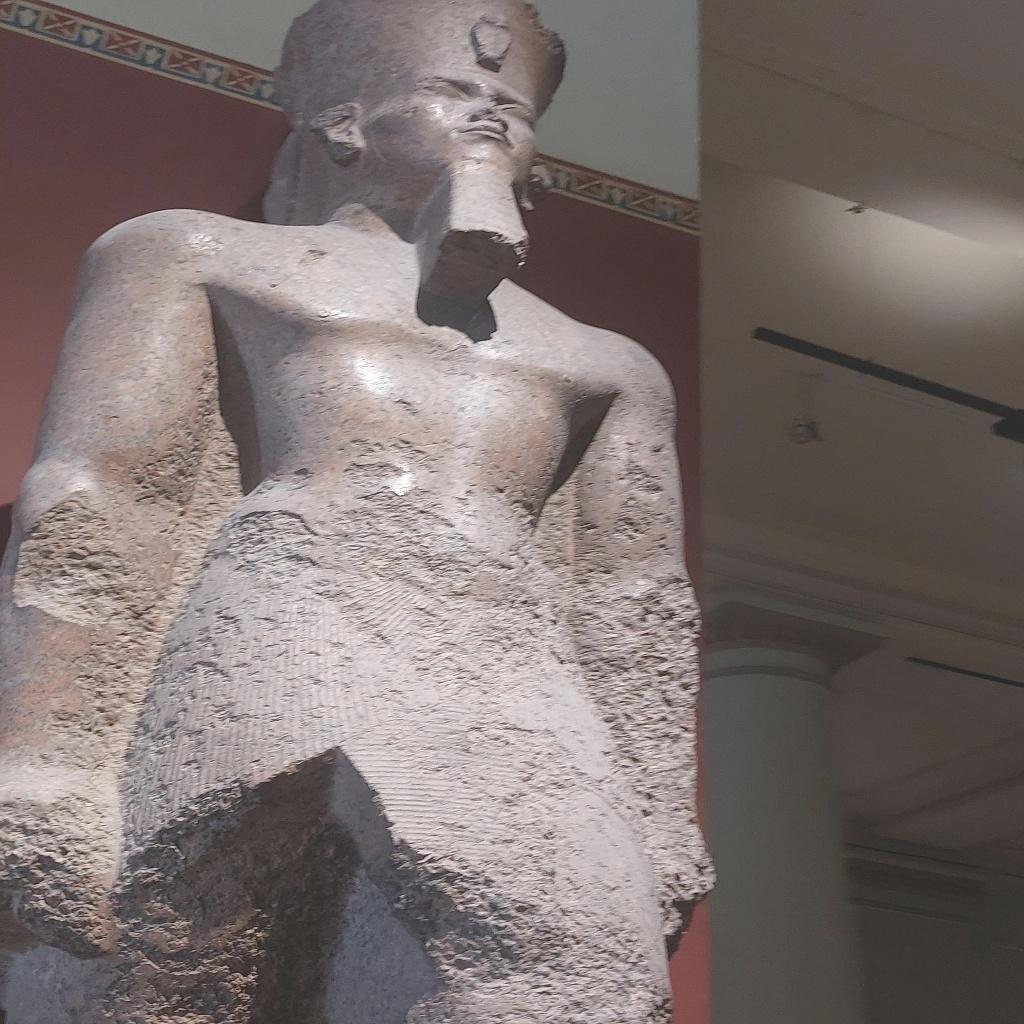Senwosret III: (4, 2, 719, 1020)
